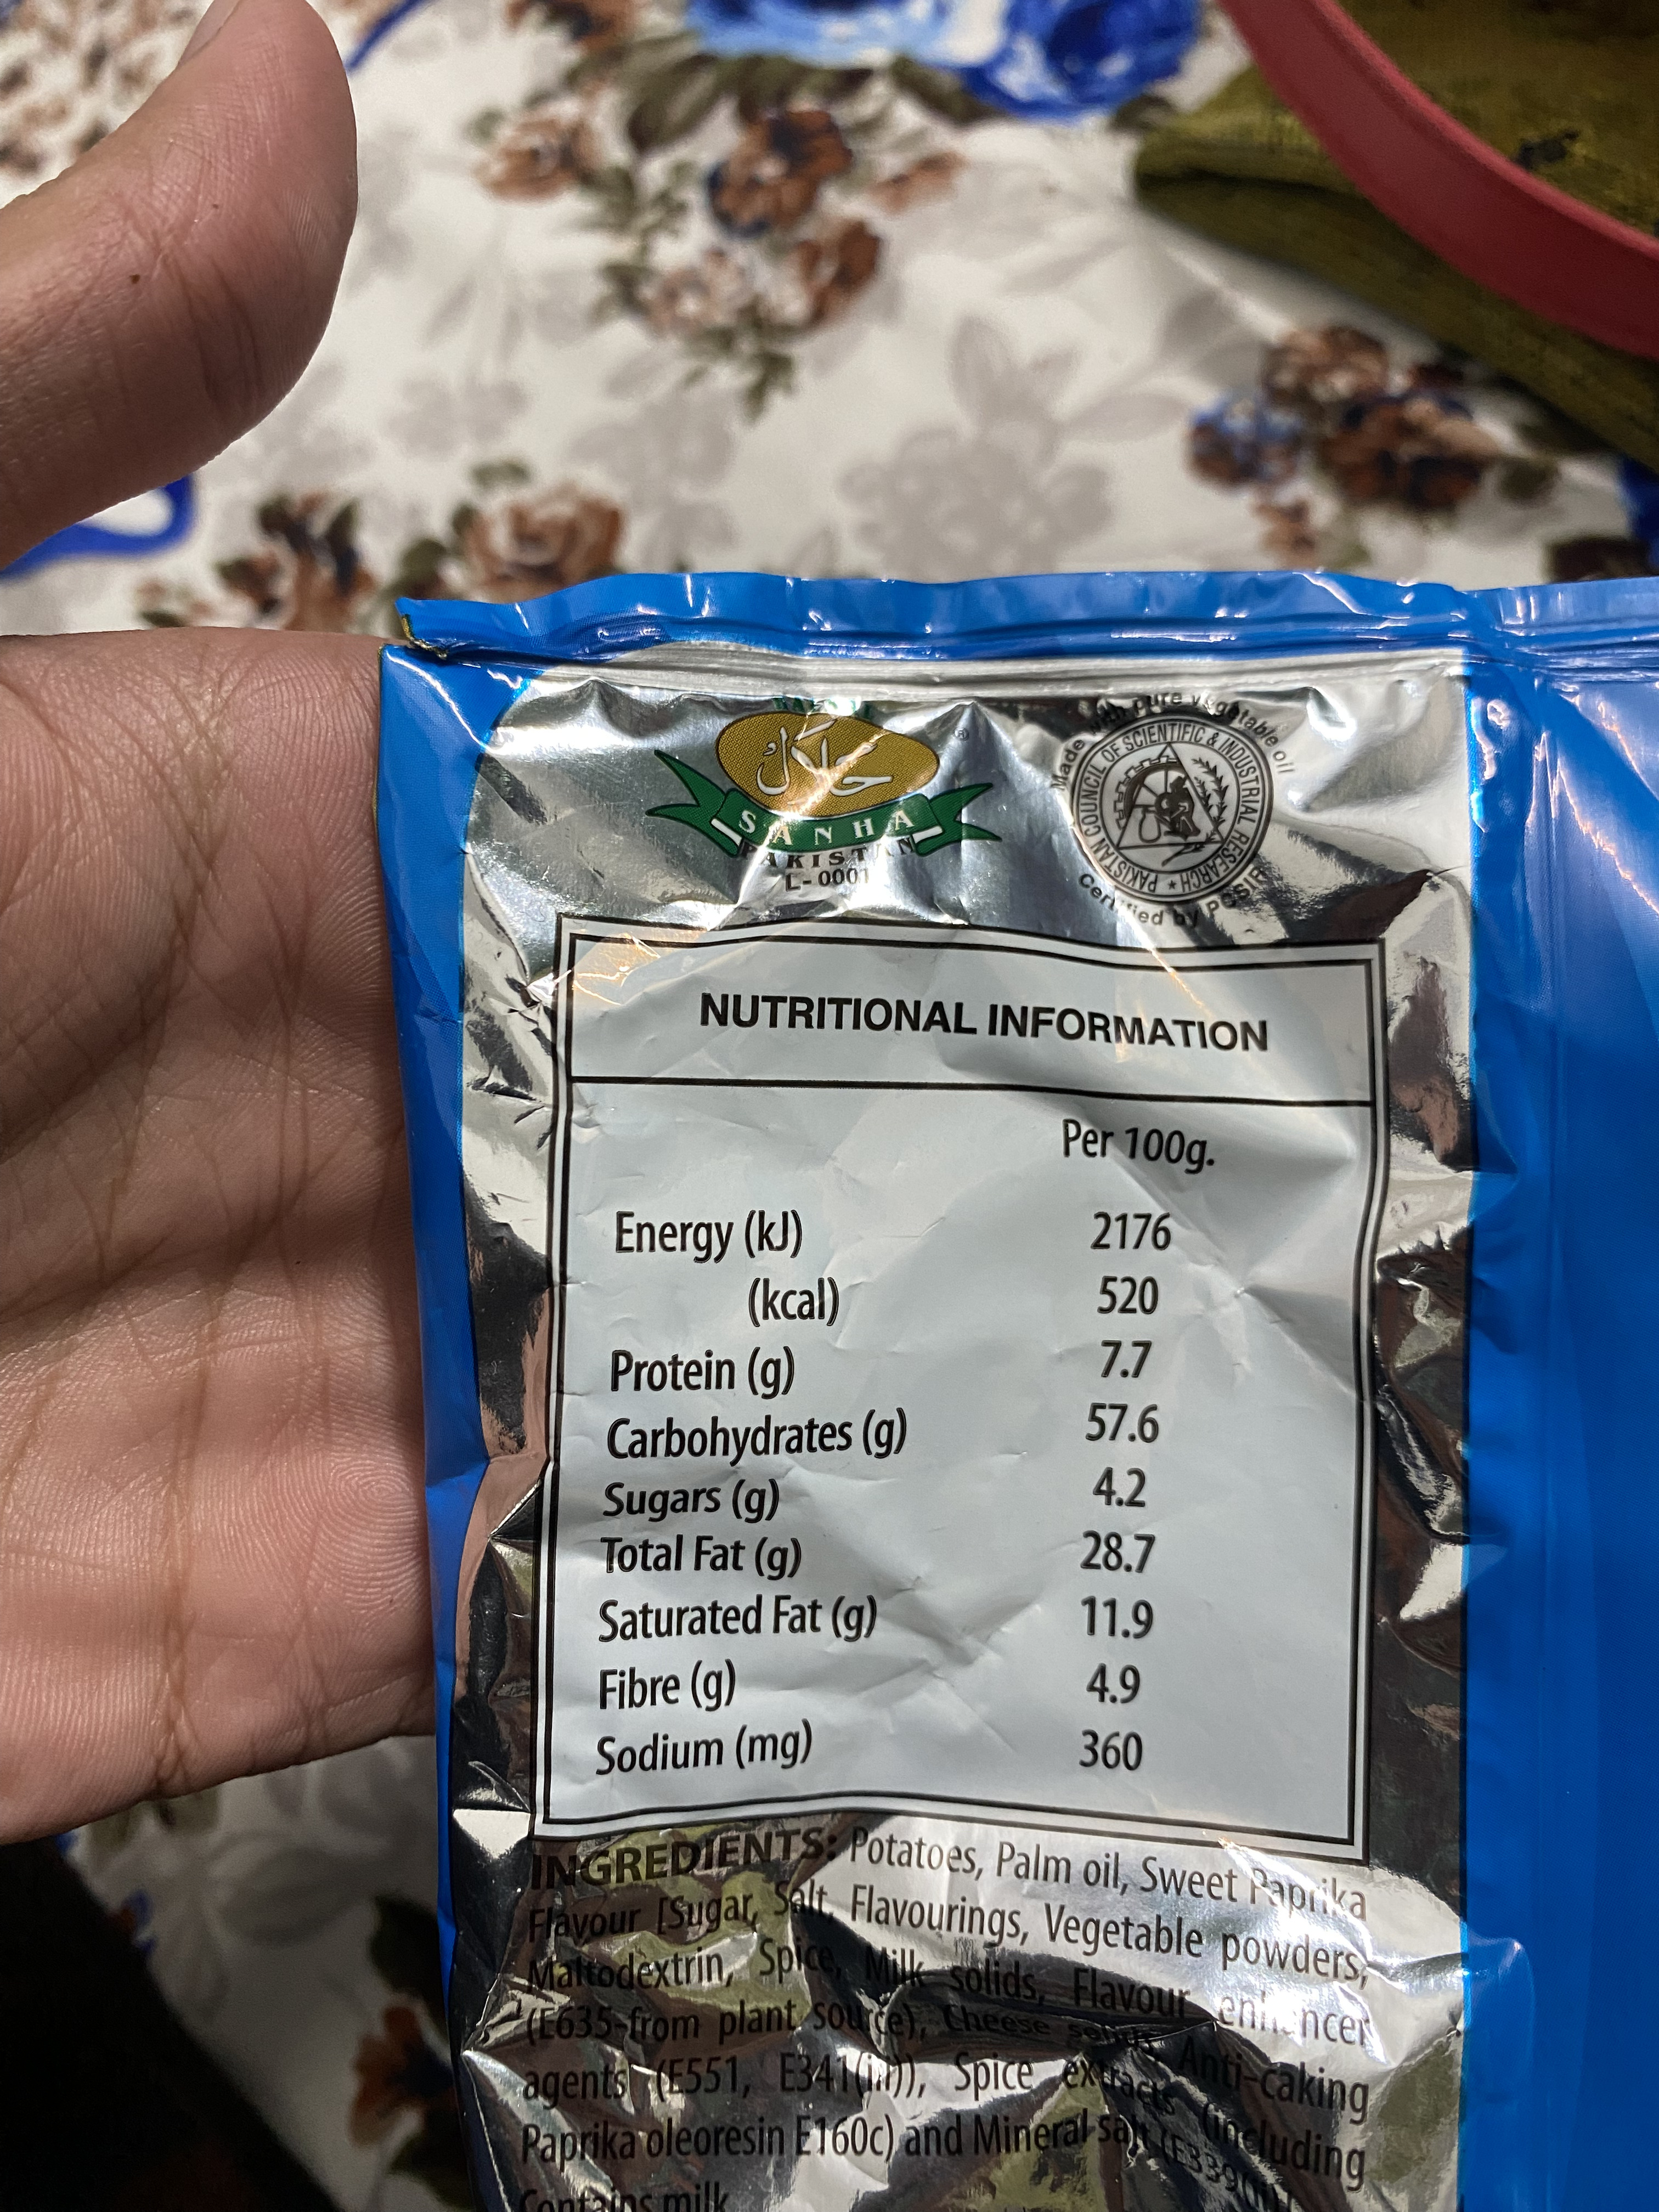table: (528, 913, 1387, 1888)
